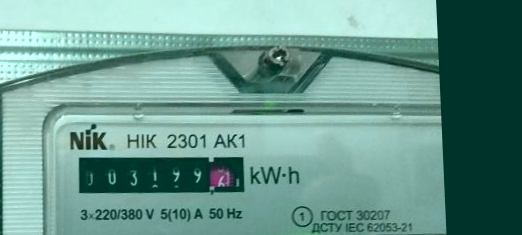0: (81, 166, 94, 187), (104, 165, 117, 185)
1: (148, 163, 159, 182)
3: (126, 167, 138, 186)
6: (216, 172, 226, 188)
9: (169, 163, 181, 183), (190, 164, 202, 183)
screen: (70, 145, 254, 207)
